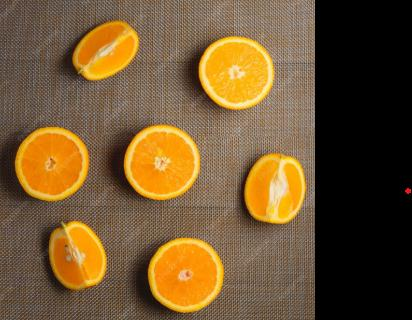orange: (9, 114, 97, 214), (114, 119, 207, 211), (144, 229, 228, 320), (195, 30, 284, 115), (238, 144, 314, 234), (39, 213, 112, 298), (67, 14, 145, 91)
